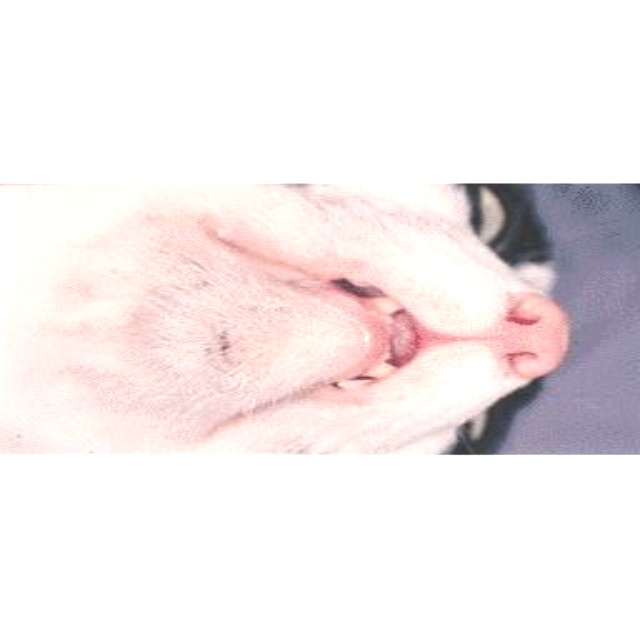acne: (195, 328, 246, 360)
